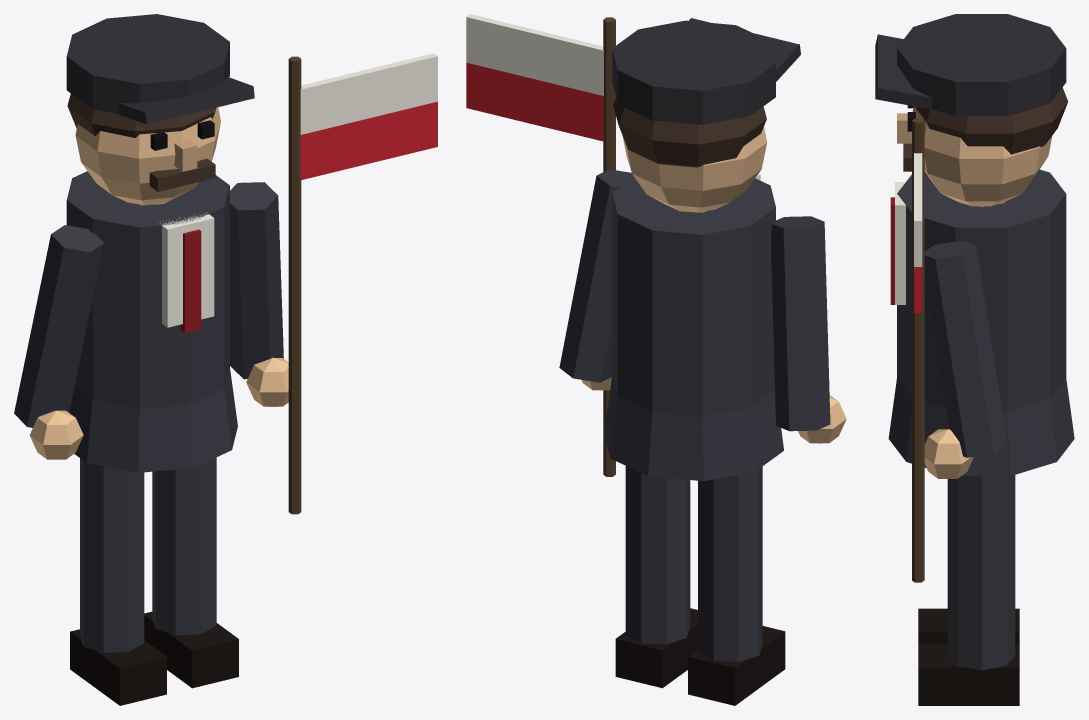
Rendered from przechodzien_4.glb.
The picture shows the model from 3 angles, left to right: view 1: azimuth 30°, elevation 25°; view 2: azimuth 150°, elevation 25°; view 3: azimuth 270°, elevation 25°; orthographic projection.
Visible parts, largest first — view 1: cialo, reka_p, noga_l, noga_p, reka_l; view 2: cialo, reka_p, noga_l, noga_p, reka_l; view 3: cialo, reka_p, noga_p, noga_l.
Part boxes in pixels (<box>): cialo: <box>66,14,254,472</box>; reka_p: <box>229,53,437,514</box>; noga_l: <box>70,458,166,705</box>; noga_p: <box>144,457,238,688</box>; reka_l: <box>14,225,104,459</box>; cialo: <box>604,18,800,481</box>; reka_p: <box>466,14,633,476</box>; noga_l: <box>688,466,785,705</box>; noga_p: <box>615,466,697,688</box>; reka_l: <box>771,216,846,443</box>; cialo: <box>875,14,1074,476</box>; reka_p: <box>912,118,1007,582</box>; noga_p: <box>918,475,1019,705</box>; noga_l: <box>918,608,1019,644</box>.
Size of the model in its own units: 1.07 by 1.64 by 0.4714.
